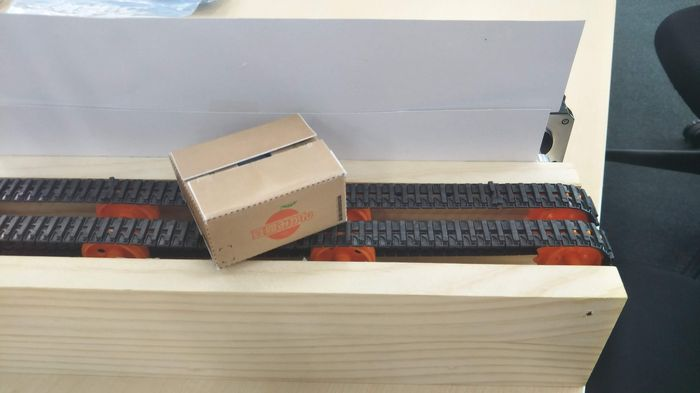box1: (166, 112, 348, 269)
